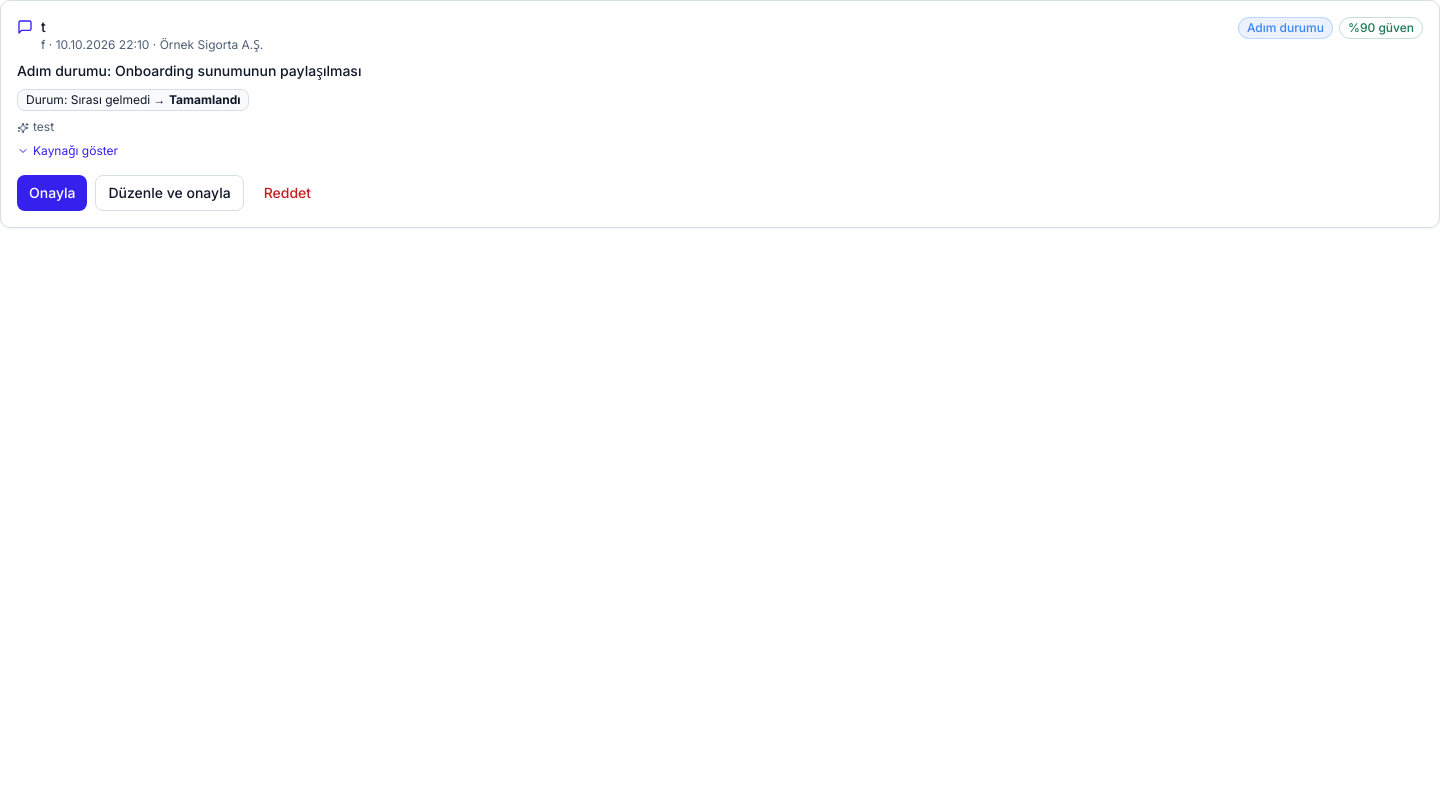
Test: InsightCard — ApproveDialog step_update status options (REV-13, AC4) › does not offer 'Sırası gelmedi' as a status option, and keeps the other four
What coordinates should you click on to do the following:
click the button "Düzenle ve onayla"
I would click on:
 (170, 193)
Its box is [96,175,244,211].
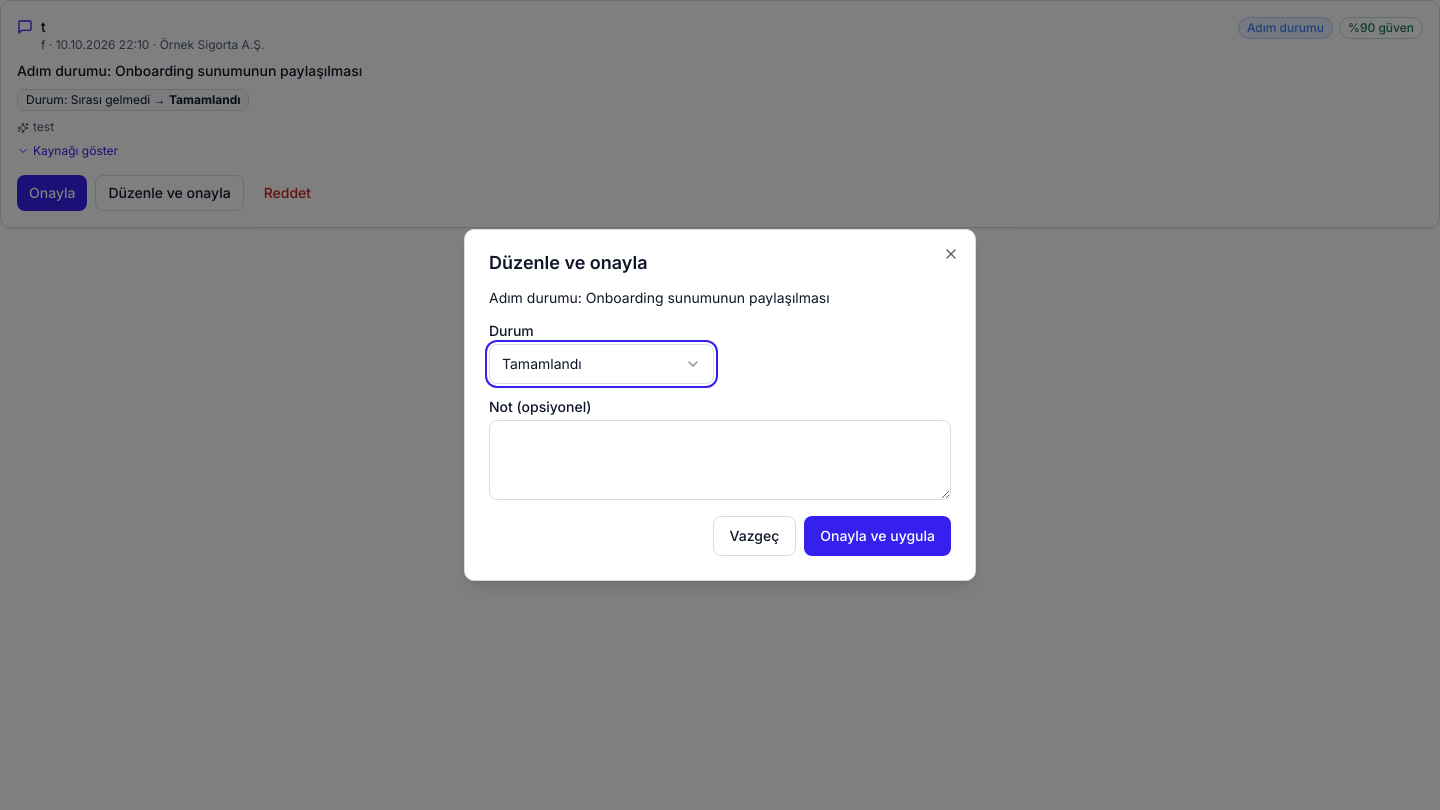
What coordinates should you click on to do the following:
click the dropdown
I would click on:
 (602, 364)
Its box is [489,344,714,384].
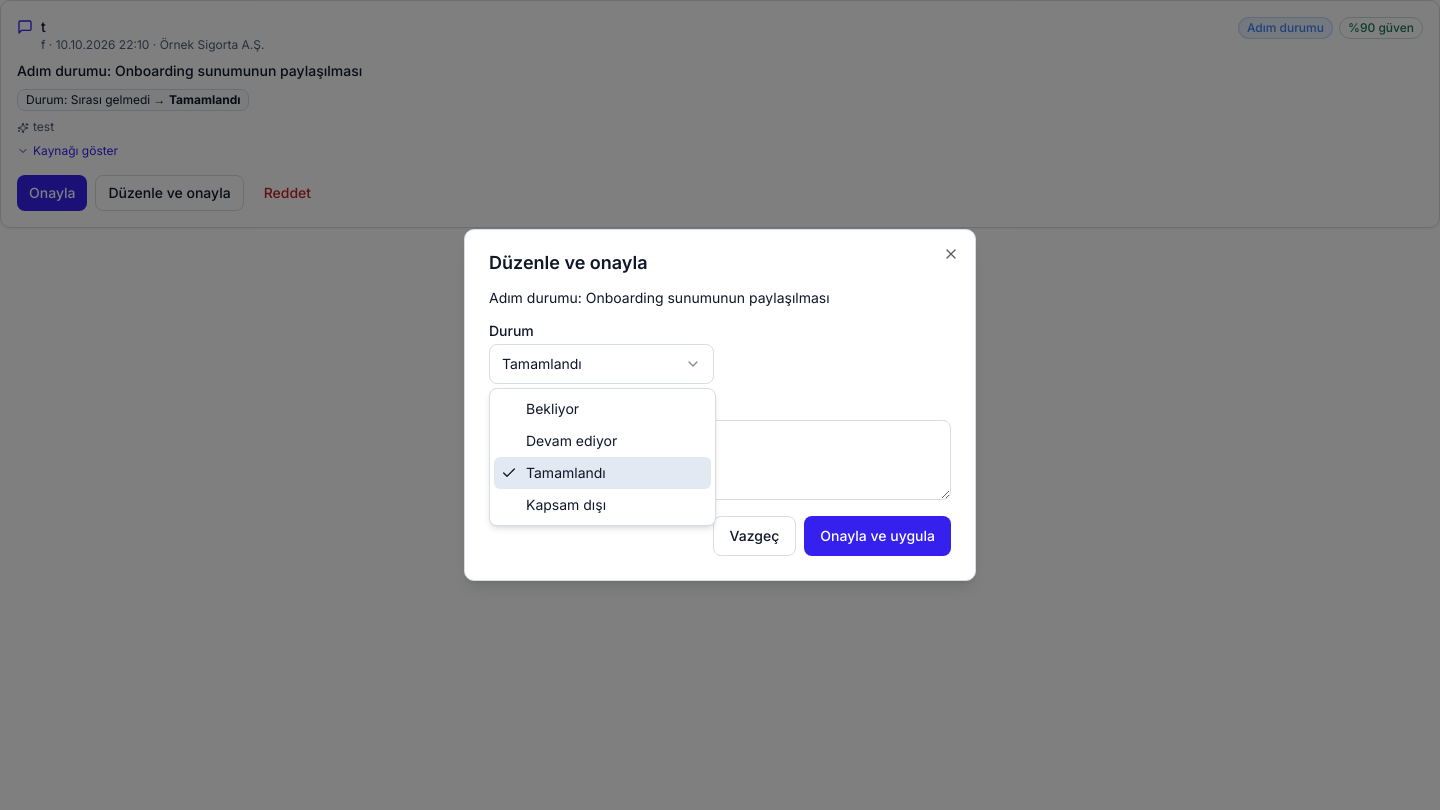
Now the option "Bekliyor" is shown, box [526,400,579,417]
Now the option "Devam ediyor" is shown, box [526,432,617,449]
Now the option "Tamamlandı" is shown, box [494,457,711,489]
